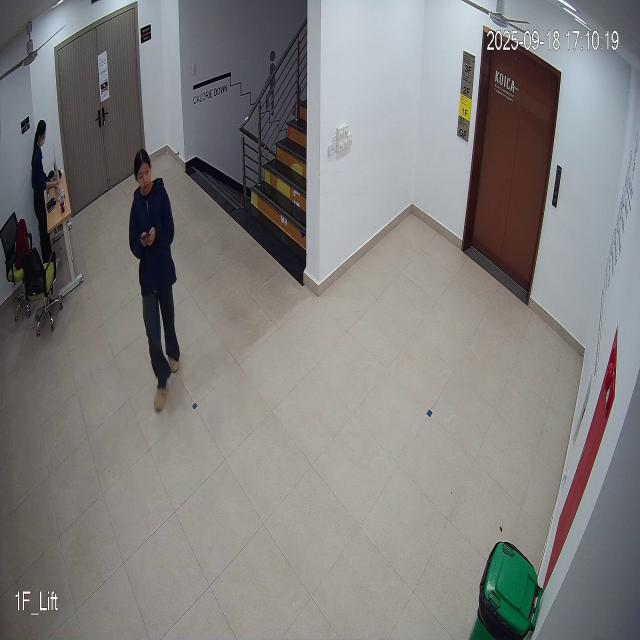face: (132, 145, 153, 203)
